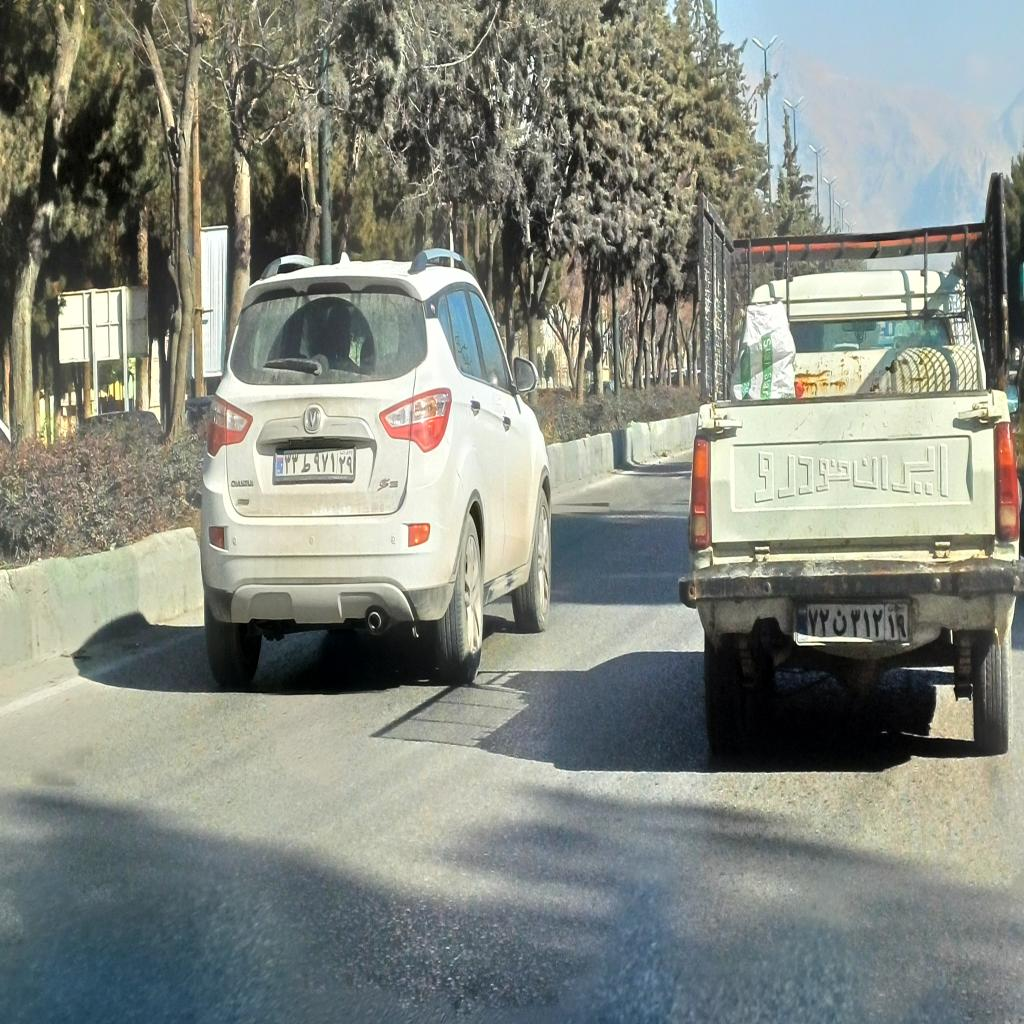Plates: (795, 599, 910, 643), (274, 445, 356, 479)
